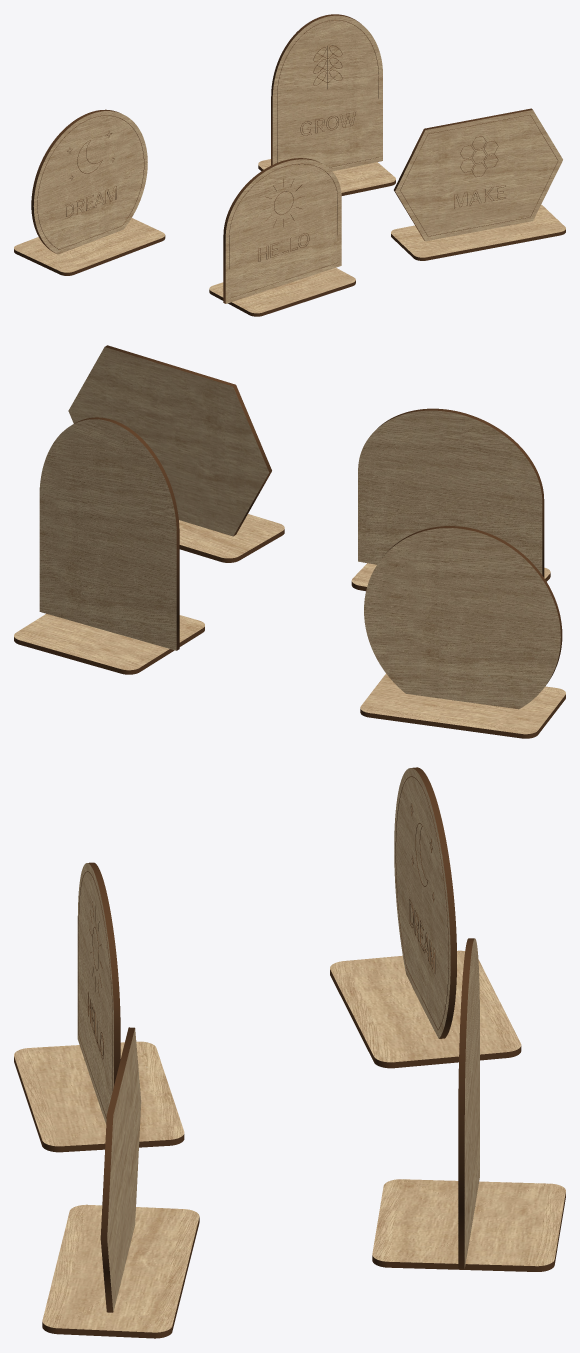
Rendered from slot-desk-sign.glb.
3 views of the same model, one above another, from view 1: azimuth 30°, elevation 25°; view 2: azimuth 150°, elevation 25°; view 3: azimuth 270°, elevation 25° (orthographic). The views are drawn at different scales.
Parts seen in each view (by area): view 1: body2, body6, body0, body4, body3, body5, body1, body7, score6, score2, score4, score0; view 2: body4, body6, body0, body2, body5, body7, body3, body1; view 3: body7, body3, body4, body5, body1, body0, body2, body6, score4, score0.
Boxes of the visible parts, left/top/right/bottom form: body2: left=394, top=108, right=562, bottom=241; body6: left=271, top=14, right=382, bottom=171; body0: left=223, top=158, right=341, bottom=303; body4: left=31, top=109, right=147, bottom=254; body3: left=391, top=204, right=565, bottom=260; body5: left=14, top=218, right=165, bottom=275; body1: left=209, top=268, right=355, bottom=316; body7: left=258, top=159, right=395, bottom=195; score6: left=277, top=20, right=378, bottom=167; score2: left=400, top=114, right=558, bottom=236; score4: left=37, top=115, right=144, bottom=249; score0: left=229, top=163, right=337, bottom=298; body4: left=364, top=526, right=562, bottom=709; body6: left=39, top=417, right=179, bottom=650; body0: left=358, top=408, right=544, bottom=577; body2: left=68, top=345, right=271, bottom=536; body5: left=360, top=673, right=565, bottom=738; body7: left=14, top=613, right=204, bottom=674; body3: left=179, top=514, right=284, bottom=562; body1: left=351, top=563, right=550, bottom=591; body7: left=372, top=1179, right=565, bottom=1271; body3: left=42, top=1204, right=199, bottom=1338; body4: left=394, top=767, right=456, bottom=1038; body5: left=330, top=950, right=521, bottom=1068; body1: left=14, top=1041, right=184, bottom=1152; body0: left=77, top=862, right=120, bottom=1124; body2: left=100, top=1027, right=141, bottom=1312; body6: left=458, top=938, right=479, bottom=1268; score4: left=395, top=776, right=448, bottom=1029; score0: left=78, top=871, right=112, bottom=1118.
Size of the model in its own units: 0.4212 by 0.143 by 0.2537.
Materials: 3 (1 with a texture image).
